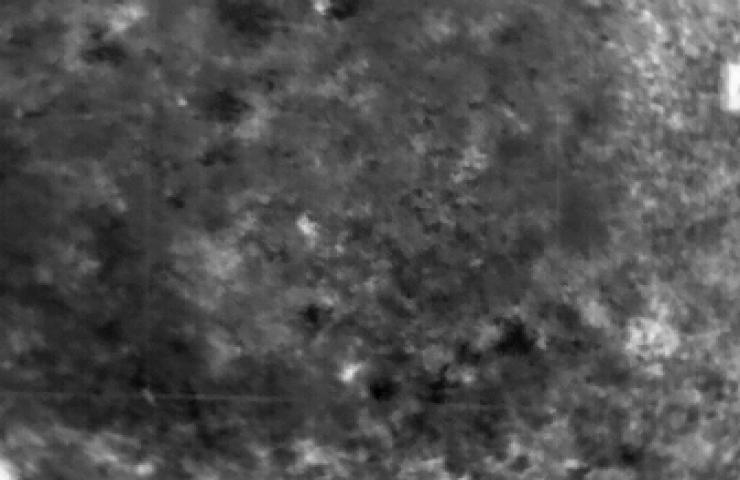landmines: (294, 207, 328, 241)
